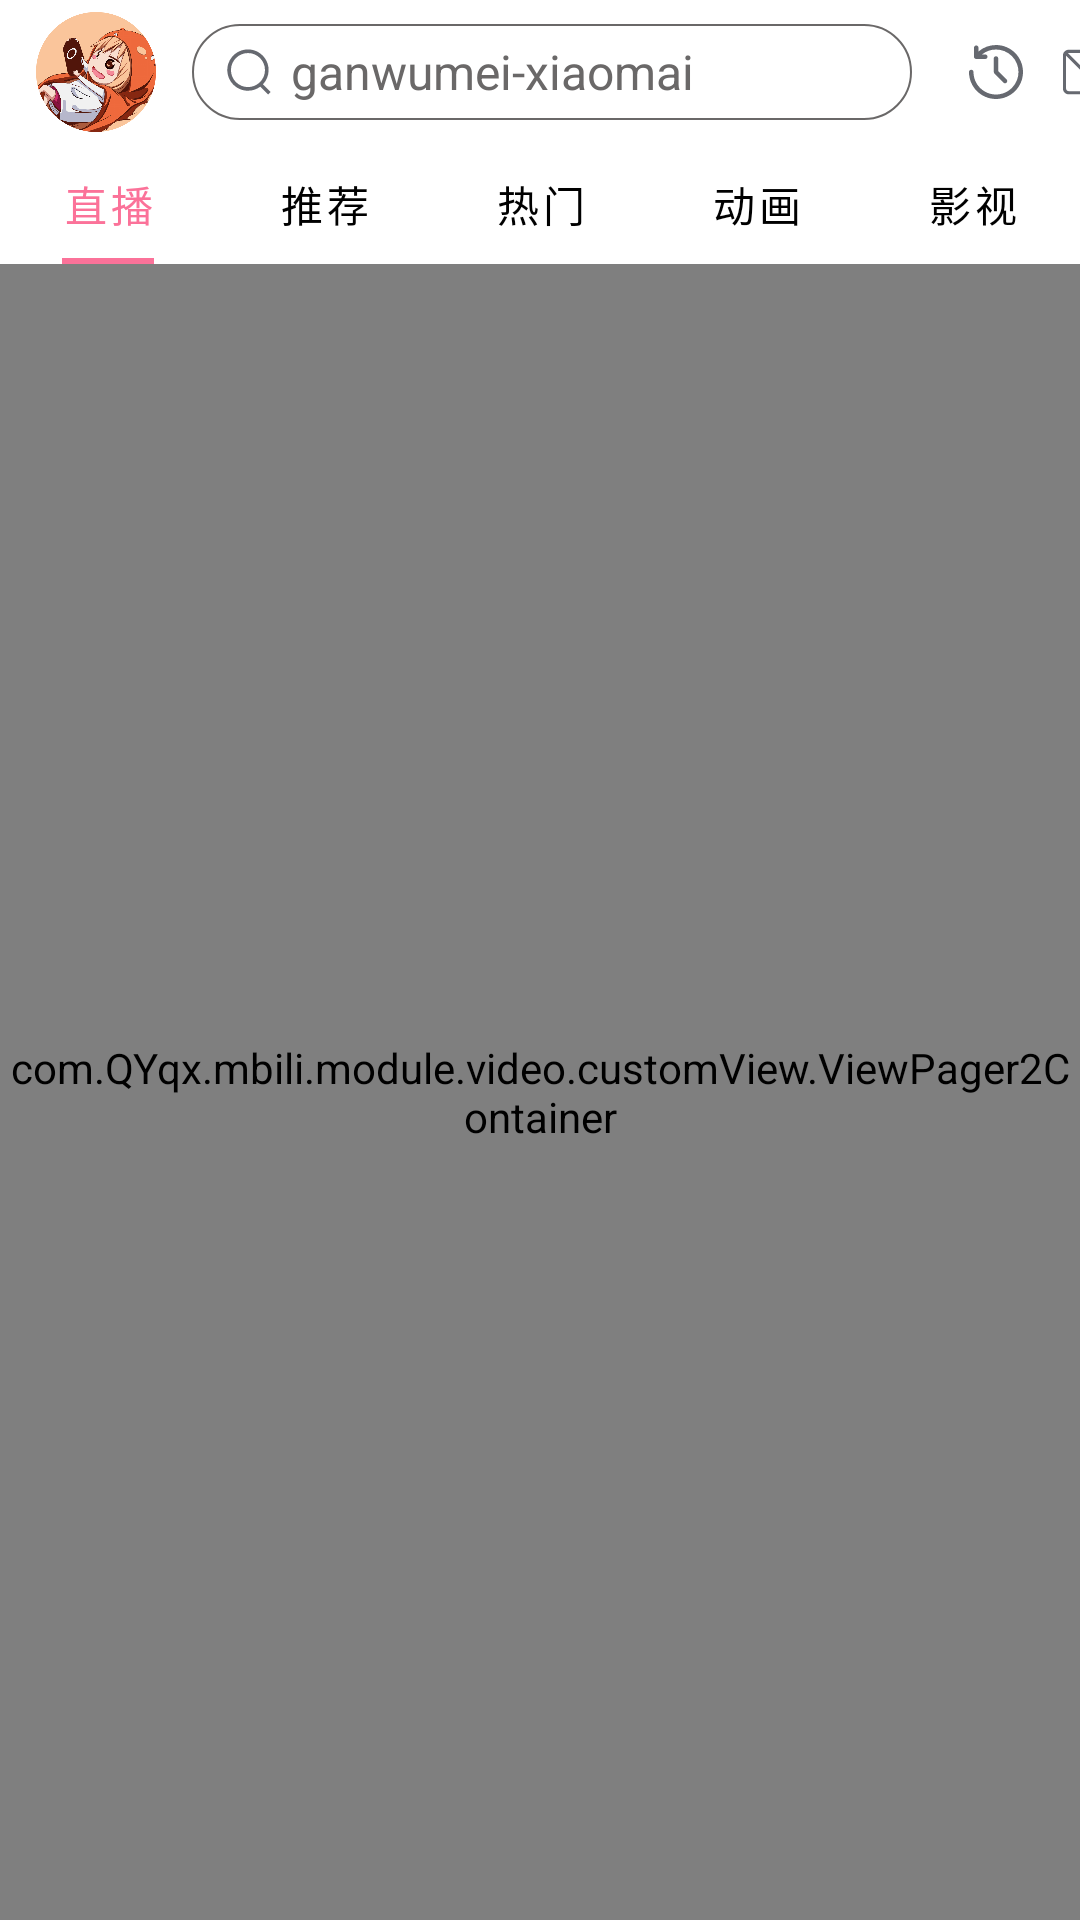

Icon click points for this 1080 x 1920 phone screenshot, format [x,y]:
record: [996,72]
